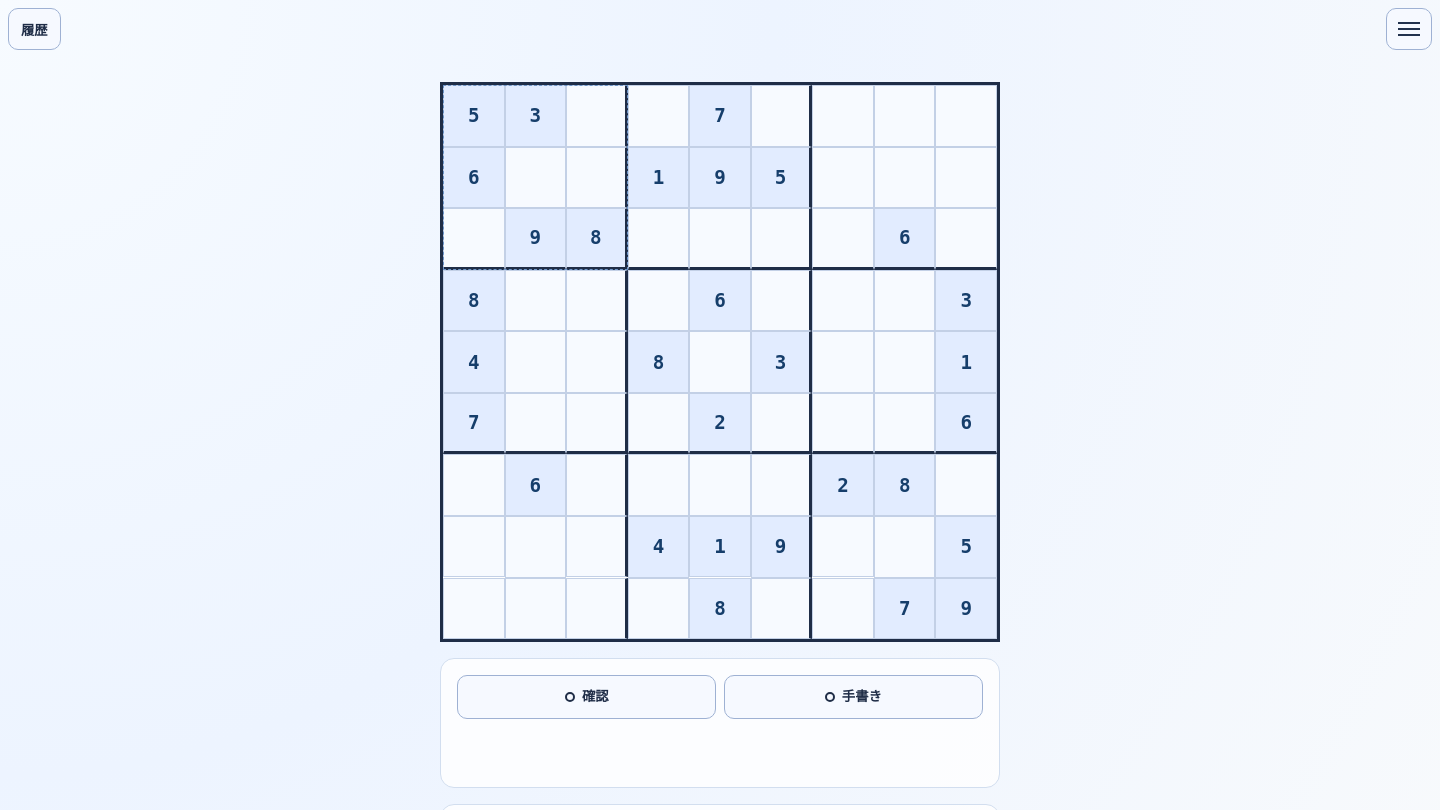
Test: Sudoku UI routing › toggles menu button label and expanded state while drawer is open
Step 1. Click the button named "メニューを開く" → (1409, 29), box [1386,8,1432,50]
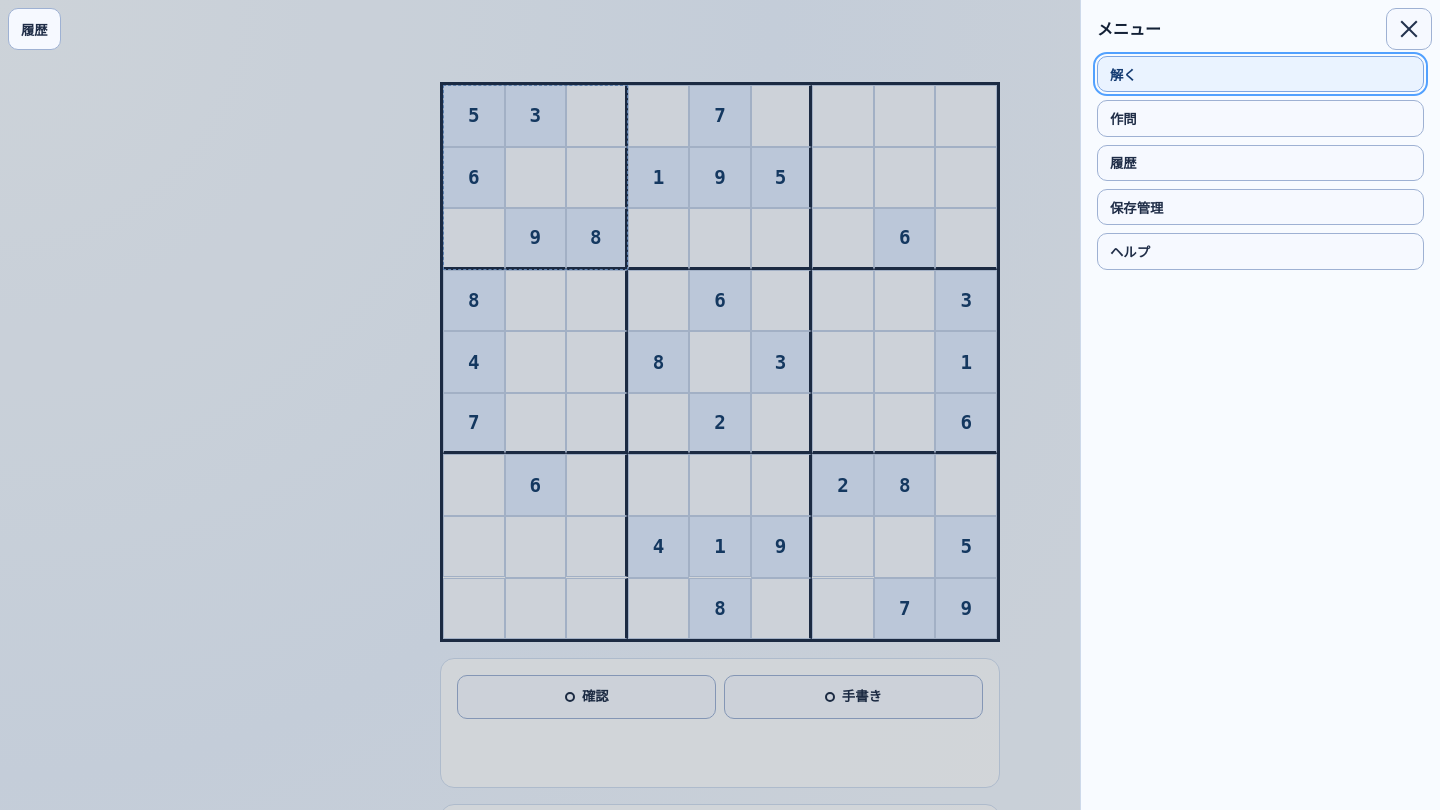
Check: the button named "メニューを閉じる" is expanded, box [1386,8,1432,50]
